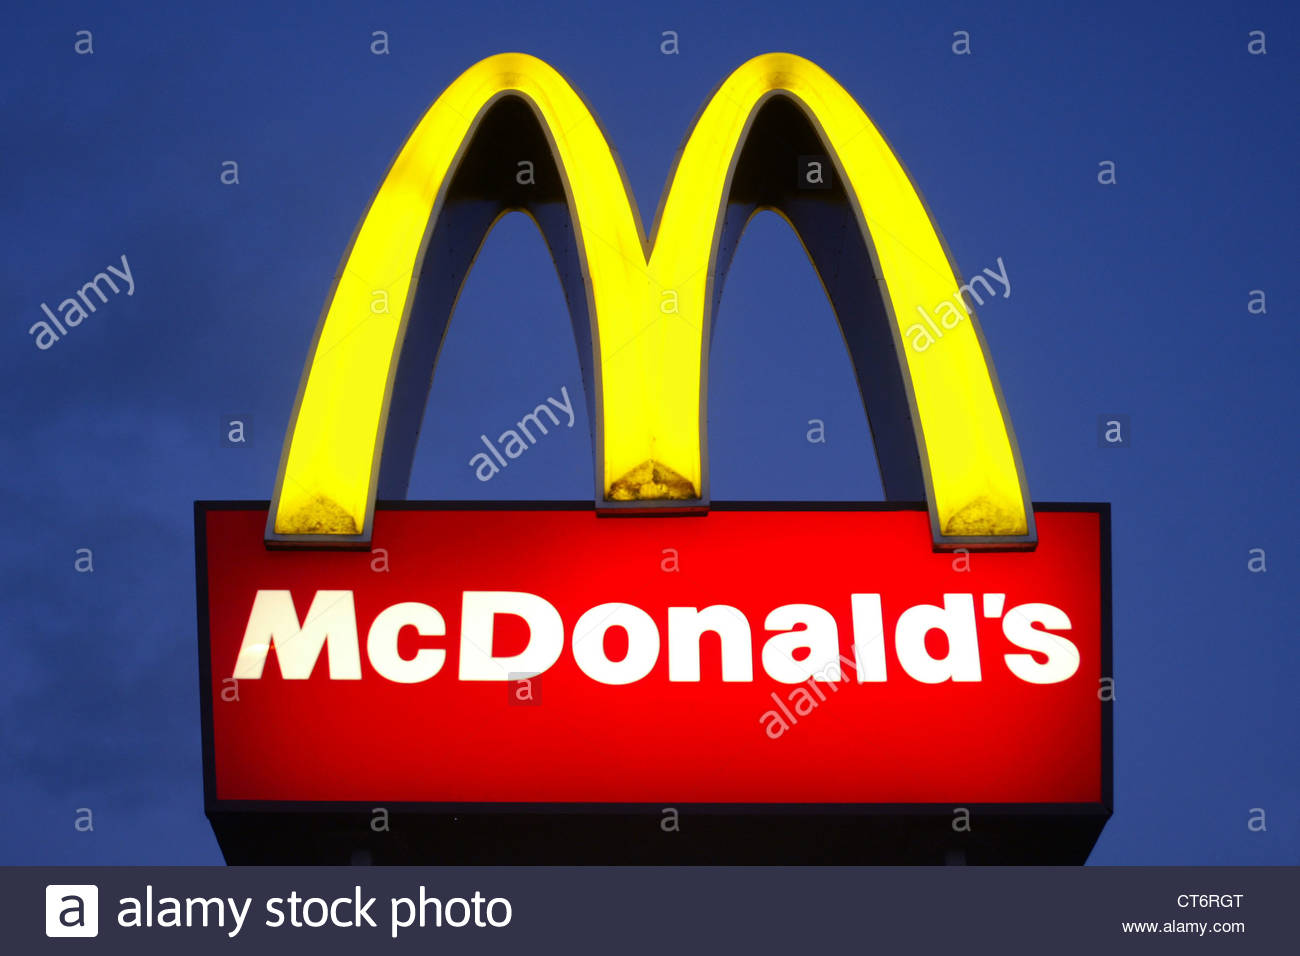mcdonalds: (256, 46, 1042, 539)
